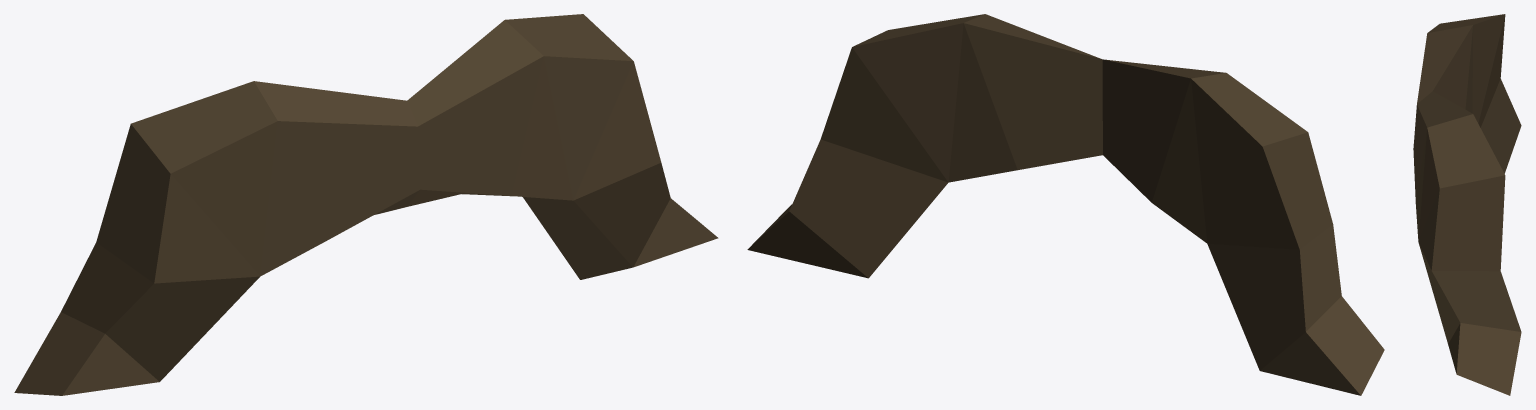
The model's file is SM_Chr_Attach_Mustache_01.fbx.
3 renders of one model, left to right at view 1: azimuth 30°, elevation 25°; view 2: azimuth 150°, elevation 25°; view 3: azimuth 270°, elevation 25°, orthographic. The views are drawn at different scales.
Visible parts, largest first — view 1: SM_Chr_Attach_Mustache_01; view 2: SM_Chr_Attach_Mustache_01; view 3: SM_Chr_Attach_Mustache_01.
Part boxes in pixels (x1=…): SM_Chr_Attach_Mustache_01: x1=14, y1=14, x2=718, y2=395; SM_Chr_Attach_Mustache_01: x1=747, y1=14, x2=1384, y2=395; SM_Chr_Attach_Mustache_01: x1=1413, y1=14, x2=1521, y2=395.
Bounding box in the file's own units: 16.34 × 6.75 × 3.1.
